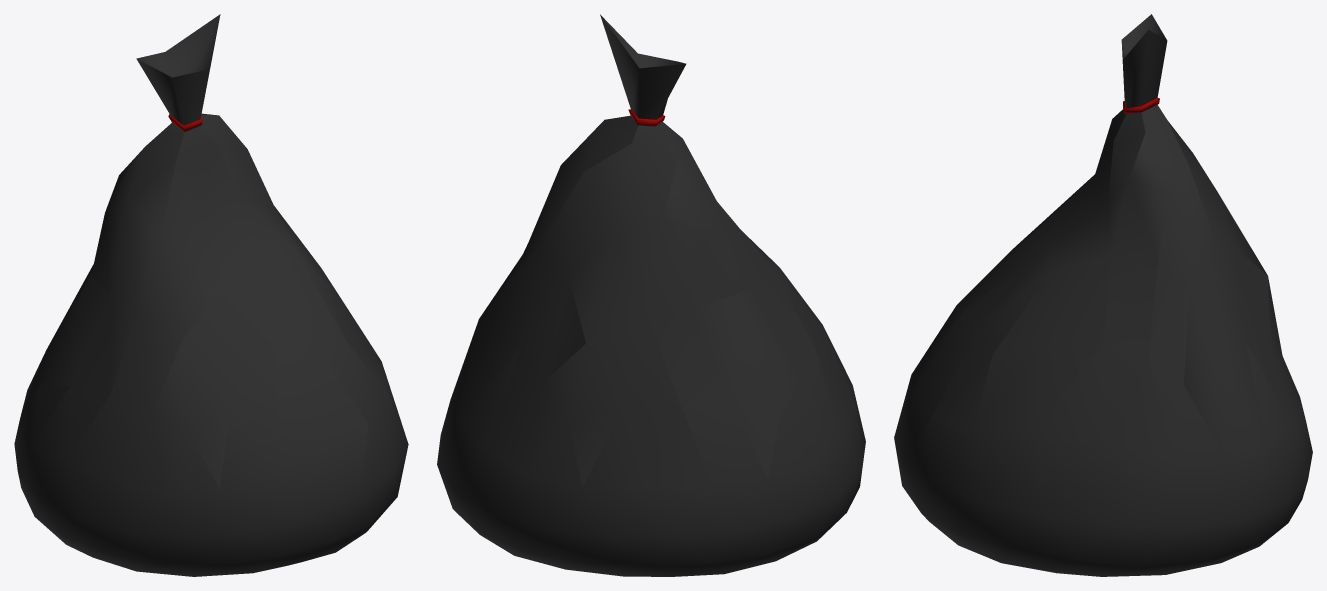
Rendered from 4e5d1611-8dae-4068-b113-3e5b6d8646f3.glb.
3 views of the same model, side by side, from view 1: azimuth 30°, elevation 25°; view 2: azimuth 150°, elevation 25°; view 3: azimuth 270°, elevation 25° (orthographic). The views are drawn at different scales.
Visible parts, largest first — view 1: GarbageBag; view 2: GarbageBag; view 3: GarbageBag.
Part boxes in pixels (x1,y1,x2,y2): GarbageBag: (14,14,408,576); GarbageBag: (437,14,865,576); GarbageBag: (894,14,1312,576).
Size of what is drawn, in the model's own units: 0.4959 by 0.666 by 0.5041.
1 material, 1 textured.
